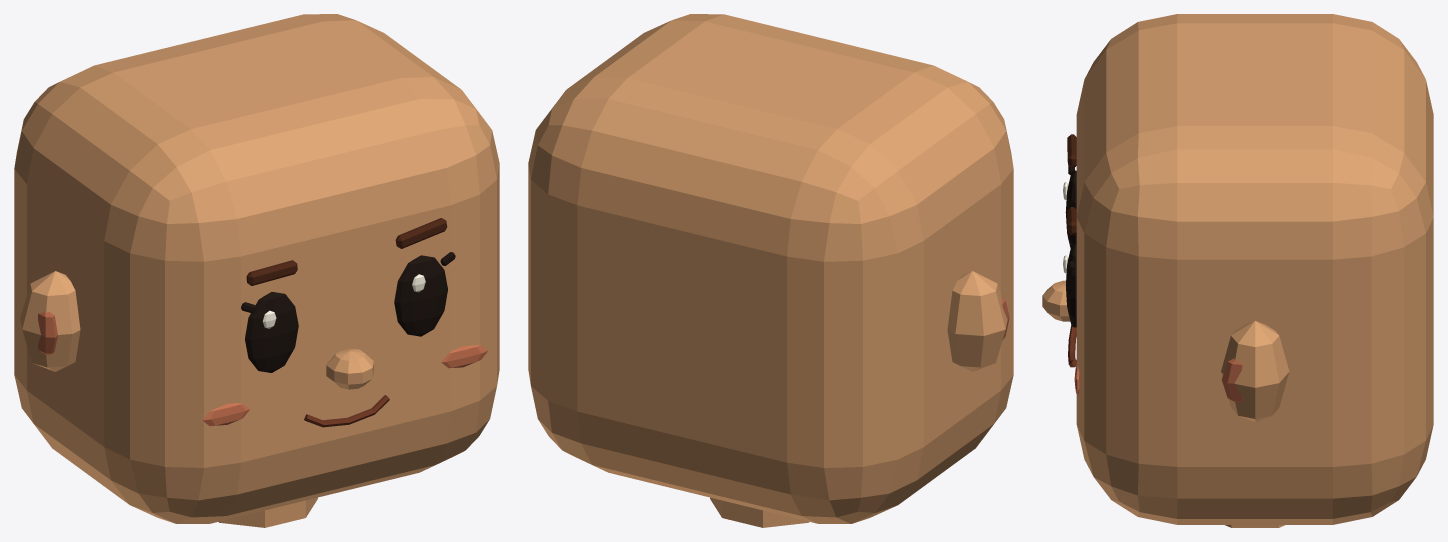
Rendered from SM_NPC_Head_02_Feminine.glb.
The picture shows the model from 3 angles, left to right: view 1: azimuth 30°, elevation 25°; view 2: azimuth 150°, elevation 25°; view 3: azimuth 270°, elevation 25°; orthographic projection.
Parts seen in each view (by area): view 1: SM_NPC_Head_02_Feminine; view 2: SM_NPC_Head_02_Feminine; view 3: SM_NPC_Head_02_Feminine.
Boxes of the visible parts, x1=… form: SM_NPC_Head_02_Feminine: x1=14, y1=14, x2=499, y2=527; SM_NPC_Head_02_Feminine: x1=528, y1=14, x2=1013, y2=527; SM_NPC_Head_02_Feminine: x1=1042, y1=14, x2=1433, y2=527.
Bounding box in the file's own units: 0.748 × 0.65 × 0.5372.
